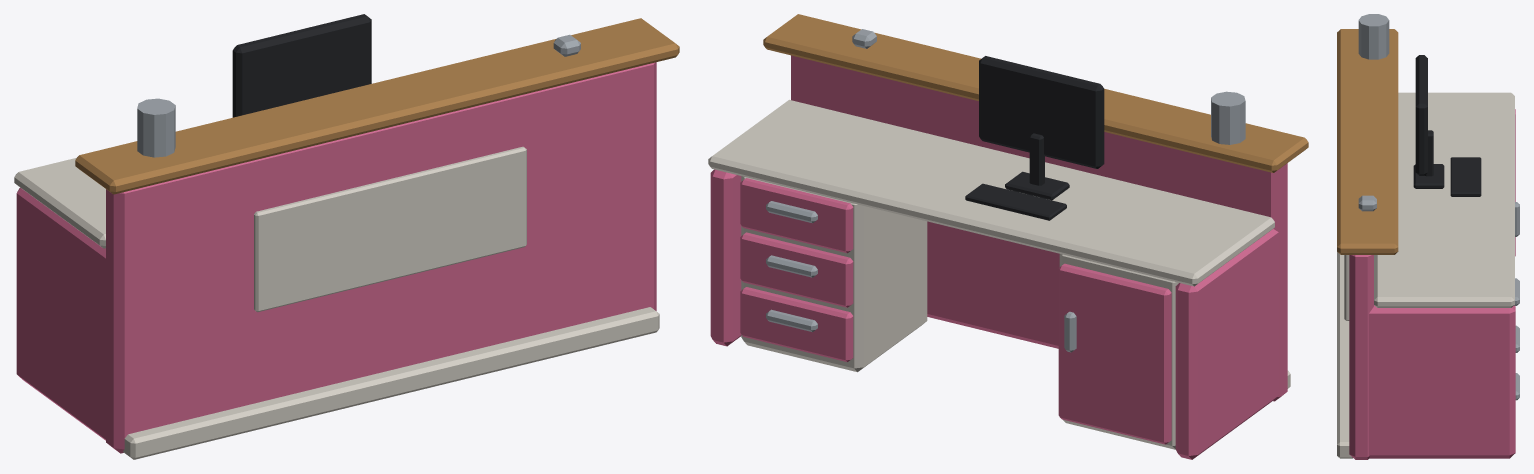
File: reception.glb
3 views of the same model, side by side, from view 1: azimuth 30°, elevation 25°; view 2: azimuth 150°, elevation 25°; view 3: azimuth 270°, elevation 25° (orthographic). The views are drawn at different scales.
Parts seen in each view (by area): view 1: reception; view 2: reception; view 3: reception.
Part boxes in pixels (<box>): reception: <box>14,14,679,459</box>; reception: <box>708,14,1308,459</box>; reception: <box>1337,14,1519,459</box>.
Bounding box in the file's own units: 8.4 × 4.75 × 2.98.
